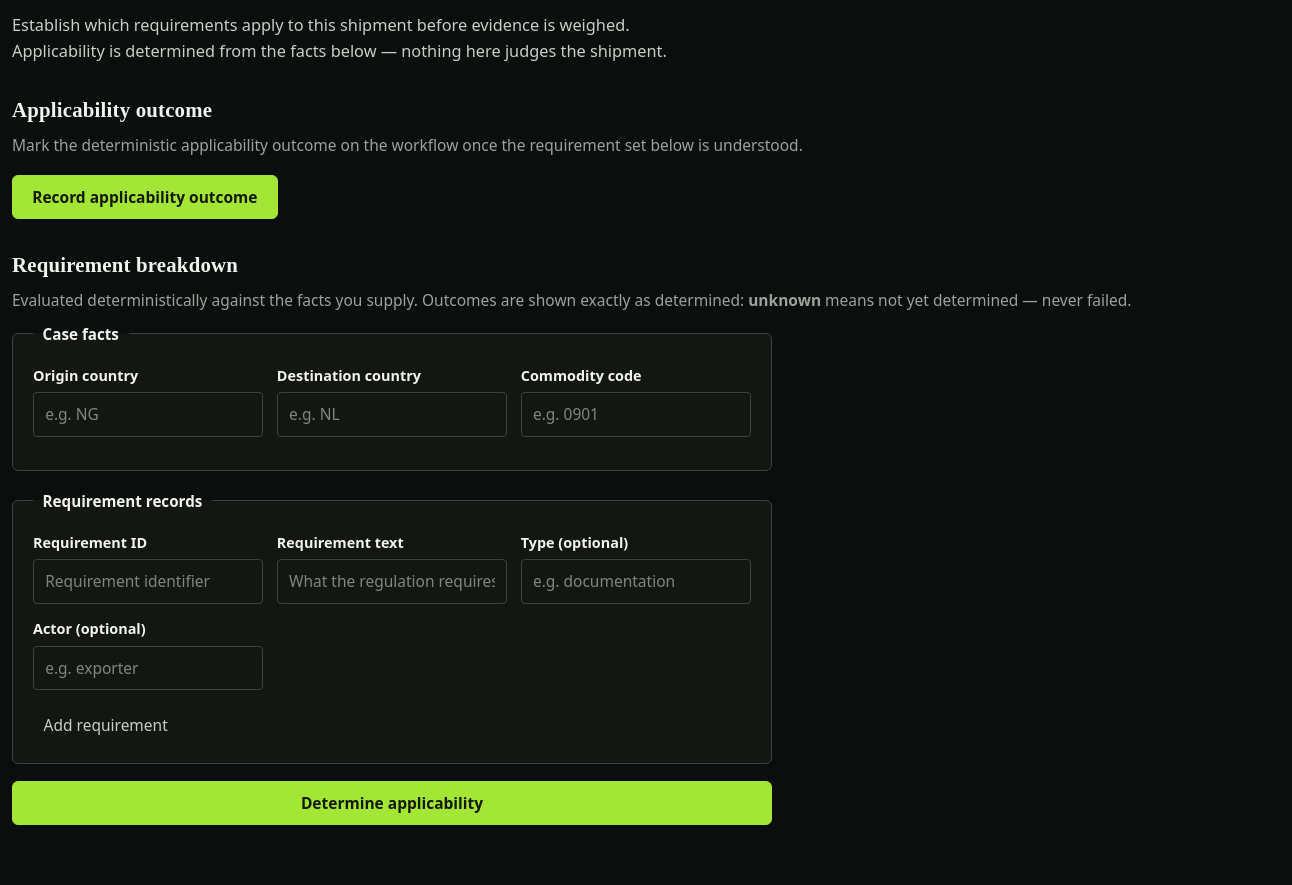
Test: RequirementsPage › presents each result as a ledger row with evidence and analysis state
Type "req-1" into the field labelled "Requirement ID" at (148, 582), box [33,559,263,604]
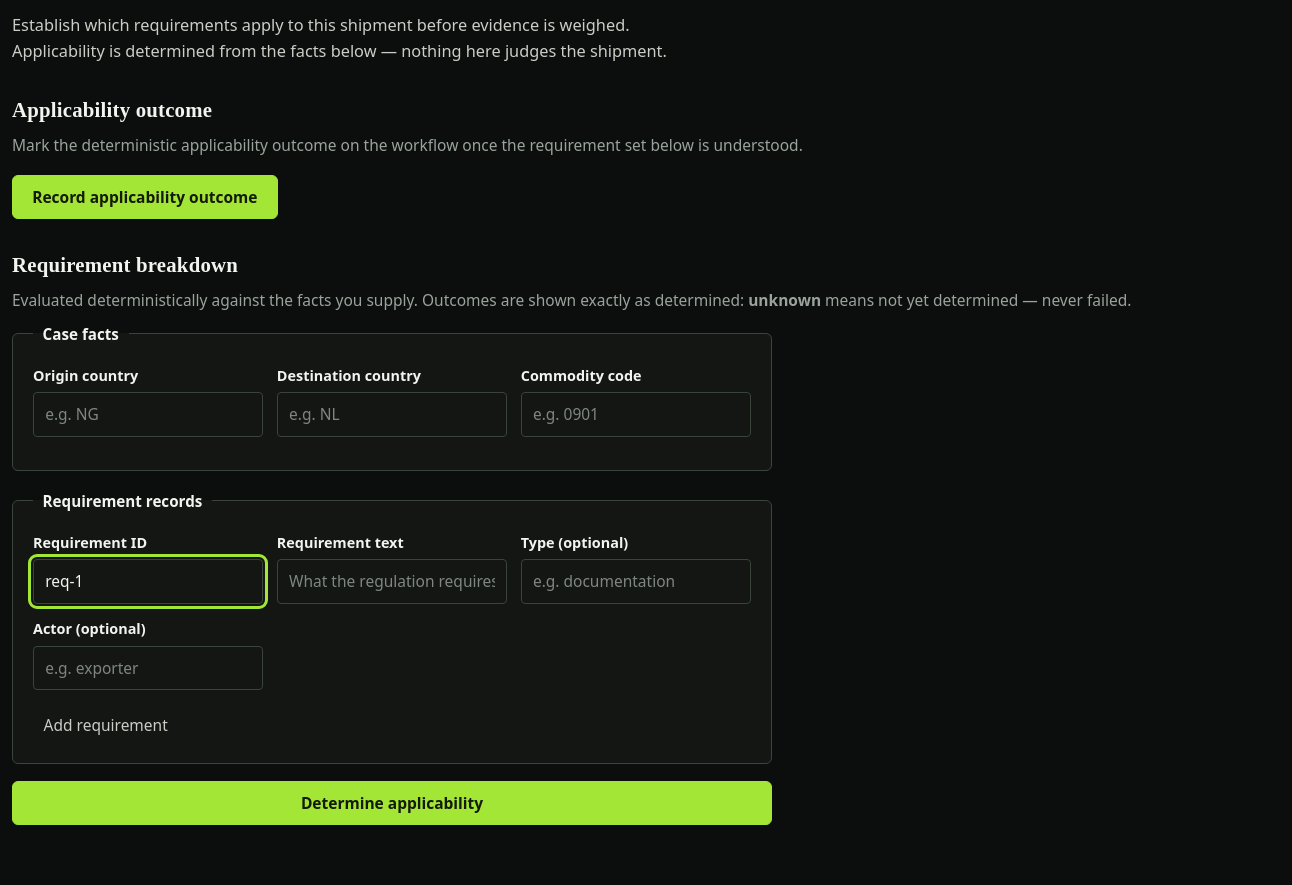
Type "File form X." into the field labelled "Requirement text" at (392, 582), box [277,559,507,604]
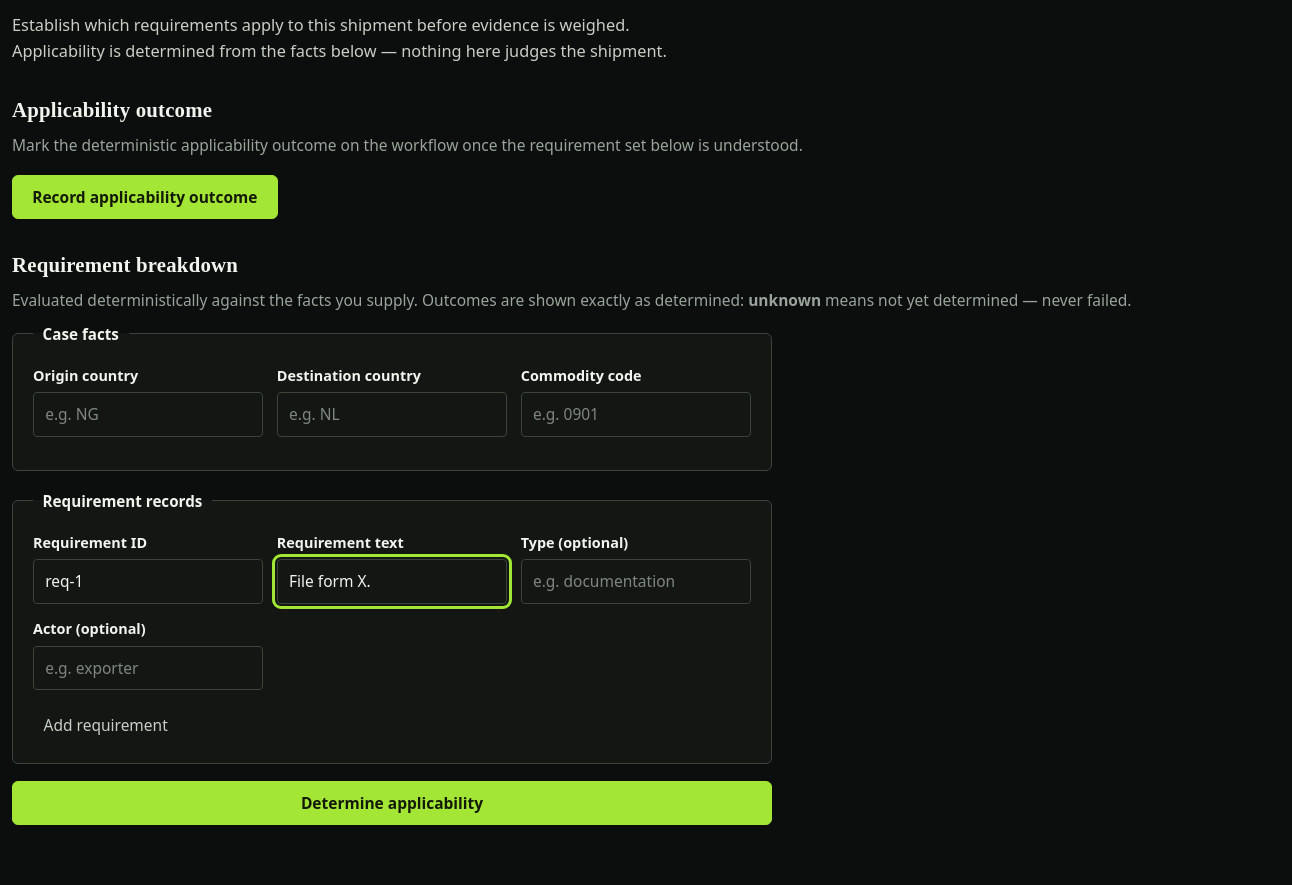
Click the button "Determine applicability" at (392, 803), box [12,781,772,825]
(page scrolled)
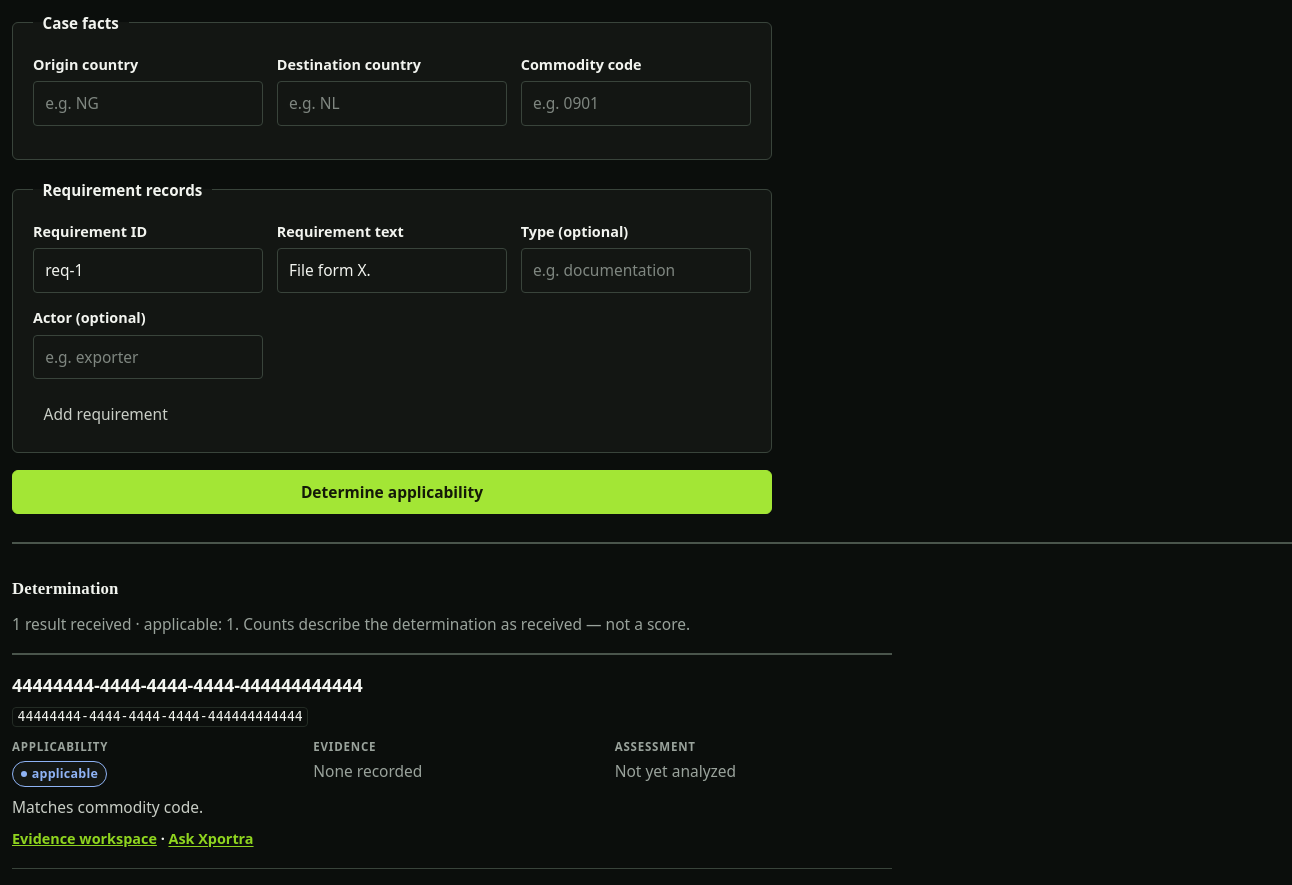
Expected: the text "Matches commodity code." is shown, [12,796,203,818]
Expected: the text "Applicability" is shown, [12,739,108,754]
Expected: the text "Evidence" is shown, [313,739,376,754]
